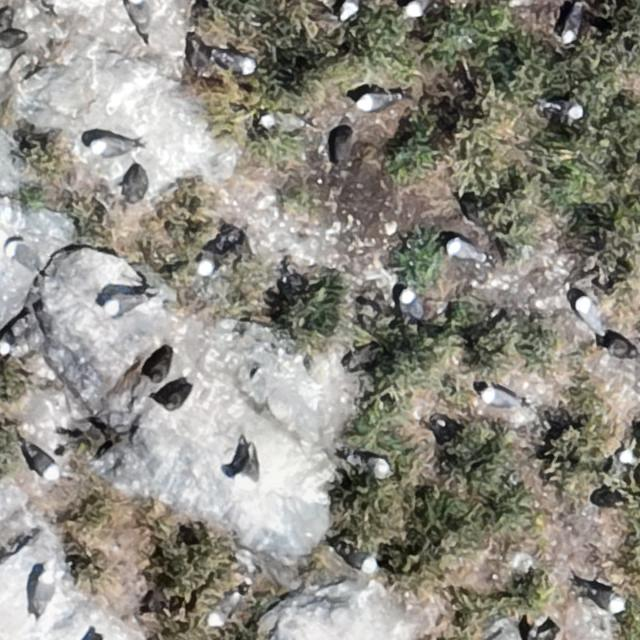umineko: (3, 237, 42, 277), (33, 561, 54, 615), (236, 451, 261, 492), (125, 0, 152, 35), (29, 447, 58, 477), (542, 99, 583, 119), (588, 588, 623, 611), (576, 297, 599, 331), (216, 590, 242, 620), (341, 548, 374, 570), (221, 53, 257, 73), (446, 238, 478, 260), (564, 6, 584, 41), (357, 456, 391, 476), (482, 390, 516, 409), (105, 294, 138, 313), (358, 93, 392, 111), (262, 114, 298, 131), (400, 290, 420, 320), (160, 388, 190, 408), (210, 605, 236, 626), (405, 0, 431, 17), (96, 140, 122, 156), (197, 257, 216, 277), (339, 0, 358, 18), (617, 450, 637, 465), (0, 330, 12, 354)
